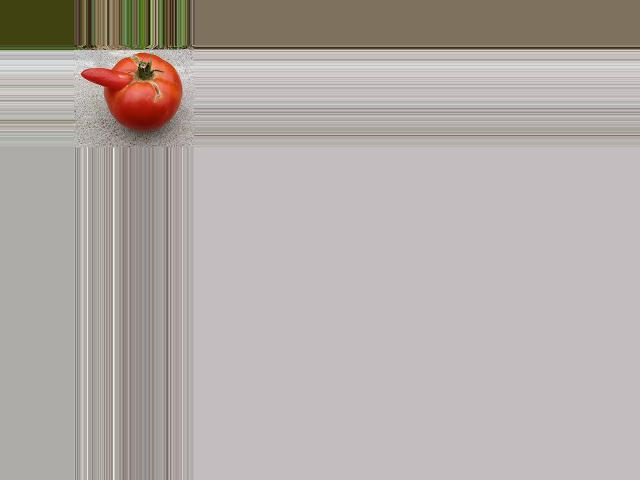tomato: (104, 53, 183, 129)
